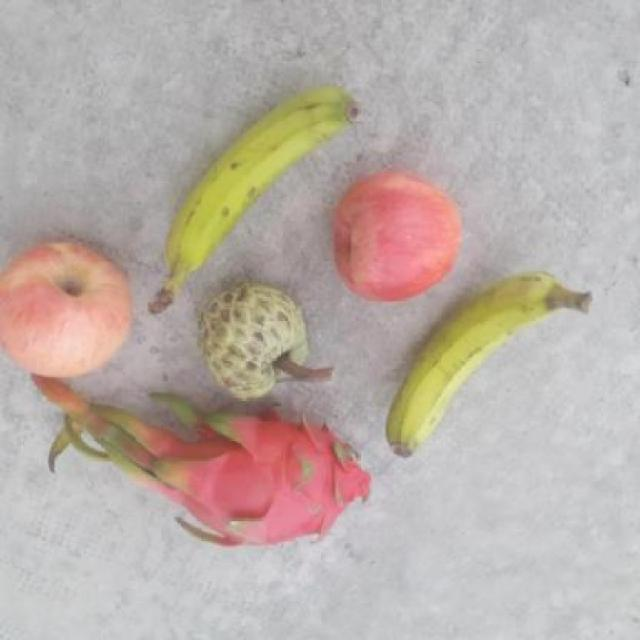apple: (0, 238, 138, 376), (335, 169, 467, 306)
banana: (147, 81, 364, 317), (384, 260, 599, 458)
dragon fruit: (166, 397, 377, 555)
sugar apple: (192, 275, 314, 402)
